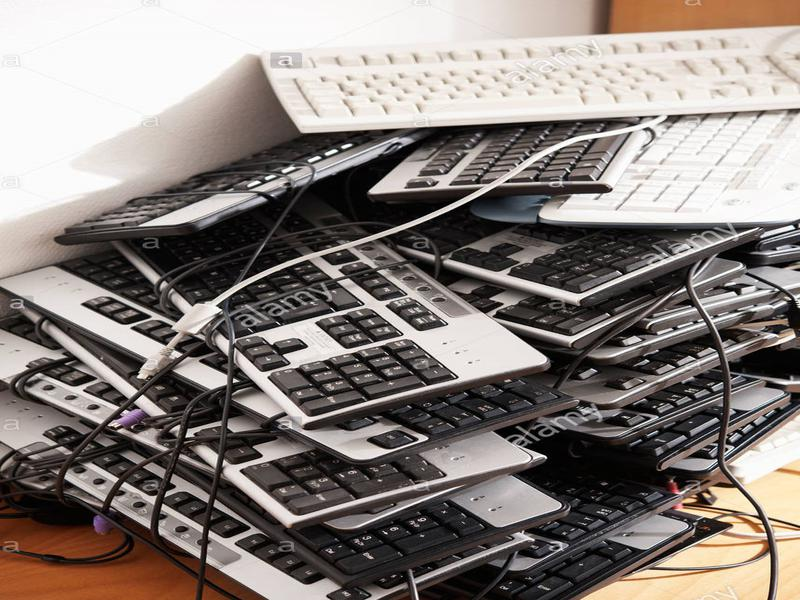keyboard: (60, 388, 565, 600), (118, 190, 551, 427), (239, 28, 800, 134), (54, 131, 423, 239), (577, 306, 798, 484), (436, 225, 794, 306), (369, 116, 667, 201)
